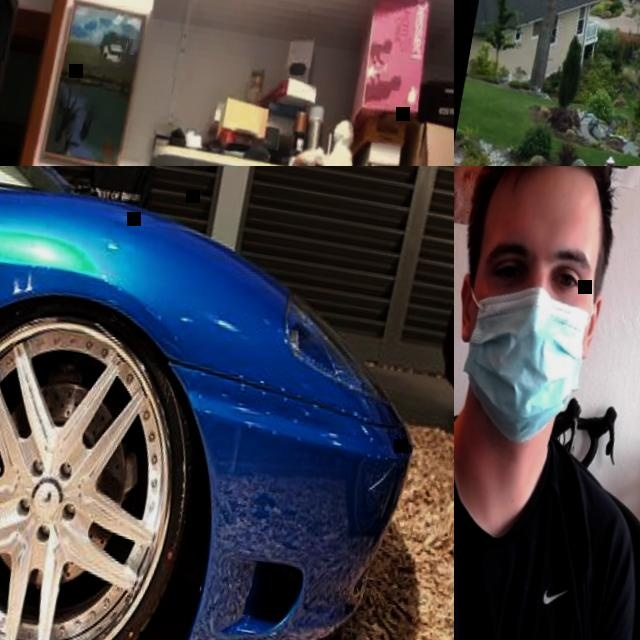Mask: (454, 281, 597, 455)
NO-Hardhat: (473, 166, 623, 230)
NO-Safety Vest: (454, 418, 612, 640)
Person: (454, 166, 640, 640)
vehicle: (0, 166, 454, 640), (422, 193, 454, 455)
